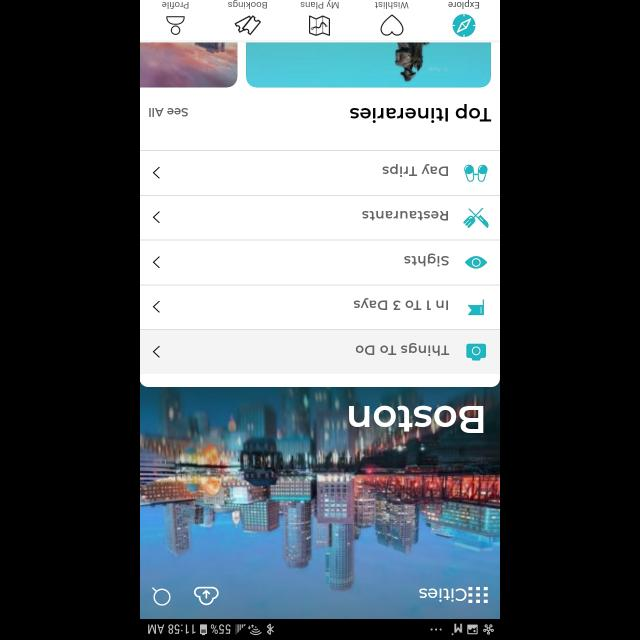icon: (234, 15, 262, 35), (452, 15, 476, 38), (381, 15, 404, 37), (194, 586, 218, 604), (308, 16, 329, 36), (152, 586, 172, 606), (167, 16, 186, 34), (466, 344, 486, 361), (468, 586, 488, 602), (464, 256, 488, 268), (152, 167, 160, 179), (152, 211, 160, 223), (152, 256, 160, 268), (152, 300, 160, 312), (152, 346, 160, 358)
image: (140, 386, 500, 618), (245, 42, 490, 86), (140, 42, 238, 88), (462, 208, 488, 228), (463, 164, 487, 182), (468, 300, 484, 316)
text: (348, 405, 484, 433), (350, 104, 490, 124), (356, 342, 448, 356), (352, 298, 448, 310), (362, 211, 448, 221), (381, 164, 447, 176), (418, 588, 466, 602), (404, 253, 448, 267), (148, 107, 188, 117), (300, 0, 338, 10), (228, 0, 266, 10), (448, 0, 478, 9), (162, 2, 190, 10), (375, 2, 409, 8)
uppertaskbar: (140, 618, 500, 640)
